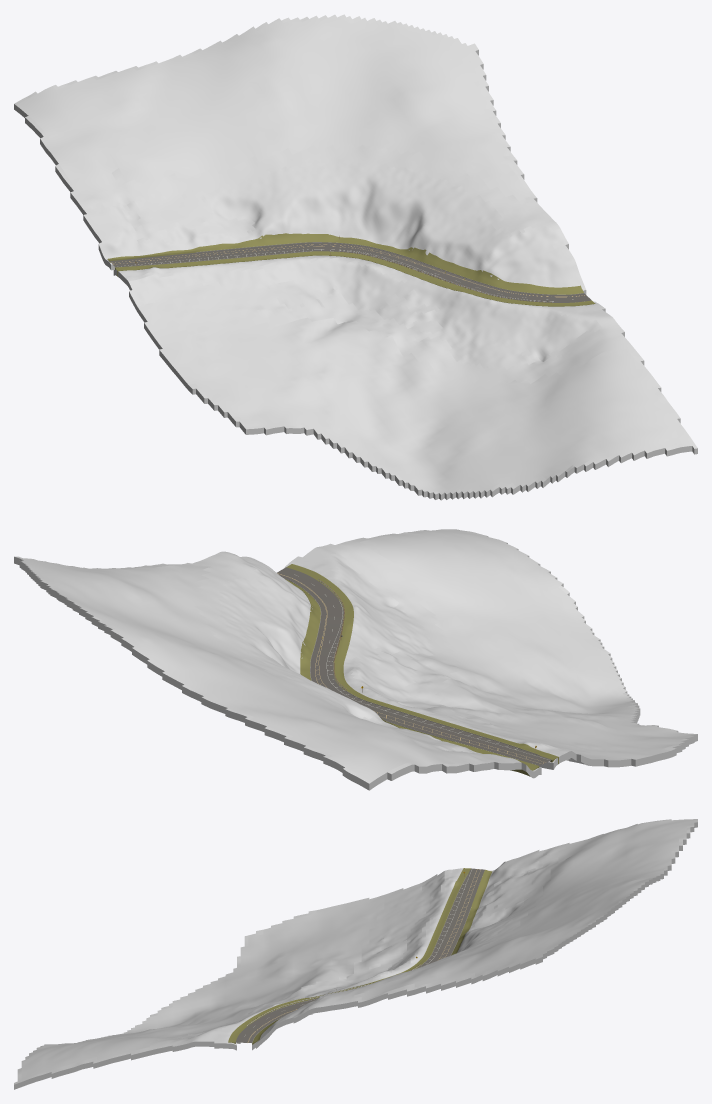
Rendered from conz_0.glb.
3 views of the same model, one above another, from view 1: azimuth 30°, elevation 25°; view 2: azimuth 150°, elevation 25°; view 3: azimuth 270°, elevation 25° (orthographic). The views are drawn at different scales.
Parts seen in each view (by area): view 1: terrain0, road0, verge0L, verge0R; view 2: terrain0, road0, verge0R, verge0L, paint_yellow0; view 3: terrain0, road0, verge0R, verge0L.
Part boxes in pixels (x1,y1,x2,y2): terrain0: [14, 14, 697, 500]; road0: [110, 242, 591, 302]; verge0L: [107, 233, 583, 294]; verge0R: [115, 251, 595, 306]; terrain0: [14, 529, 697, 790]; road0: [277, 567, 551, 765]; verge0R: [286, 564, 558, 763]; verge0L: [285, 579, 539, 776]; paint_yellow0: [277, 573, 545, 763]; terrain0: [14, 819, 697, 1089]; road0: [235, 868, 484, 1042]; verge0R: [228, 868, 470, 1043]; verge0L: [252, 869, 492, 1044].
Size of the model in its own units: 228 by 127 by 362.
